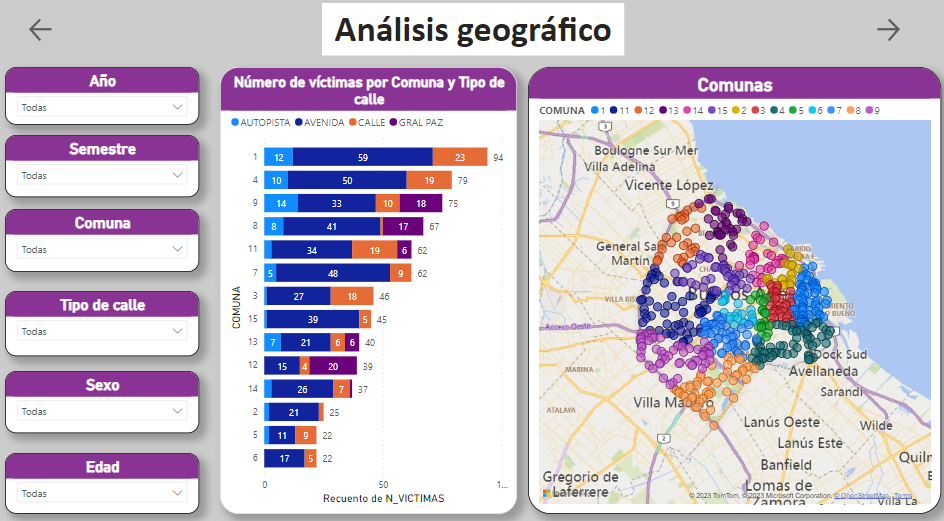

What the dashboard file says about the page in this screenshot:
{"tool":"powerbi","page":{"name":"Análisis geográfico","canvas":[1280,720],"ordinal":1},"visuals":[{"type":"textbox","box":[445.9,12.4,403.3,70.2],"z":0},{"type":"slicer","title":"Año","fields":{"Values":["Calendario.Año"]},"box":[22,97.7,258.8,77.1],"z":1000},{"type":"slicer","title":"Semestre","fields":{"Values":["Calendario.Semestre"]},"box":[22.7,188,258.7,82.7],"z":2000},{"type":"slicer","title":"Comuna","fields":{"Values":["df_accidentes.COMUNA"]},"box":[22,286.3,258.8,84],"z":3000},{"type":"slicer","title":"Tipo de calle","fields":{"Values":["df_accidentes.TIPO_DE_CALLE"]},"box":[22,396.4,258.8,86.7],"z":4000},{"type":"slicer","title":"Sexo","fields":{"Values":["df_accidentes.SEXO"]},"box":[22,502.4,258.8,82.6],"z":5000},{"type":"barChart","title":"Número de  víctimas por Comuna y Tipo de calle","fields":{"Category":["df_accidentes.COMUNA"],"Y":["CountNonNull(df_accidentes.N_VICTIMAS)"],"Series":["df_accidentes.TIPO_DE_CALLE"]},"box":[309.7,97.7,396.4,596],"z":6000},{"type":"map","title":"Comunas","fields":{"Y":["df_accidentes.pos y"],"X":["df_accidentes.pos x"],"Series":["df_accidentes.COMUNA"]},"box":[719.8,97.7,550.5,596],"z":7000},{"type":"slicer","title":"Edad","fields":{"Values":["df_accidentes.EDAD"]},"box":[22.7,612,258.7,81.3],"z":8000},{"type":"actionButton","box":[1179.5,27.5,100.5,39.9],"z":8001},{"type":"actionButton","box":[50.9,27.5,100.5,39.9],"z":8002}]}

Visuals, with their boxes in screenshot pixels (x1, y1, x2, y2), scaled from the page's 1280x720 canvas onto the 944x521 screenshot:
textbox: <bbox>329, 9, 626, 60</bbox>
"Año" slicer: <bbox>16, 71, 207, 126</bbox>
"Semestre" slicer: <bbox>17, 136, 208, 196</bbox>
"Comuna" slicer: <bbox>16, 207, 207, 268</bbox>
"Tipo de calle" slicer: <bbox>16, 287, 207, 350</bbox>
"Sexo" slicer: <bbox>16, 364, 207, 423</bbox>
"Número de  víctimas por Comuna y Tipo de calle" barChart: <bbox>228, 71, 521, 502</bbox>
"Comunas" map: <bbox>531, 71, 937, 502</bbox>
"Edad" slicer: <bbox>17, 443, 208, 502</bbox>
actionButton: <bbox>870, 20, 943, 49</bbox>
actionButton: <bbox>38, 20, 112, 49</bbox>
